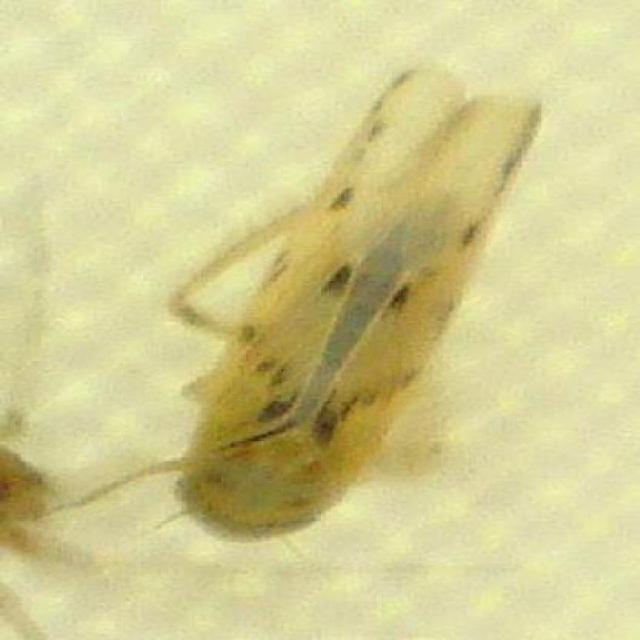green-leafhopper: (151, 63, 549, 540)
